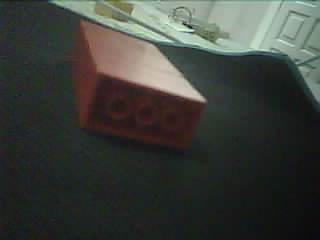lego: (71, 20, 206, 152), (95, 1, 136, 21)
